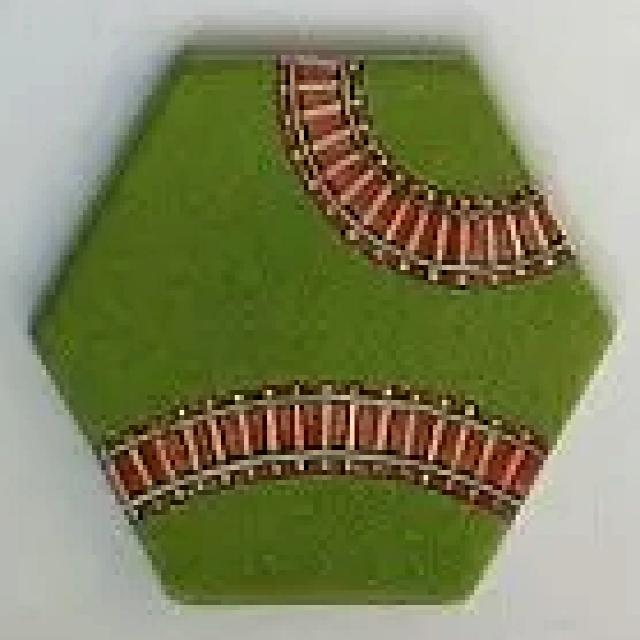5_3: (31, 49, 610, 606)
